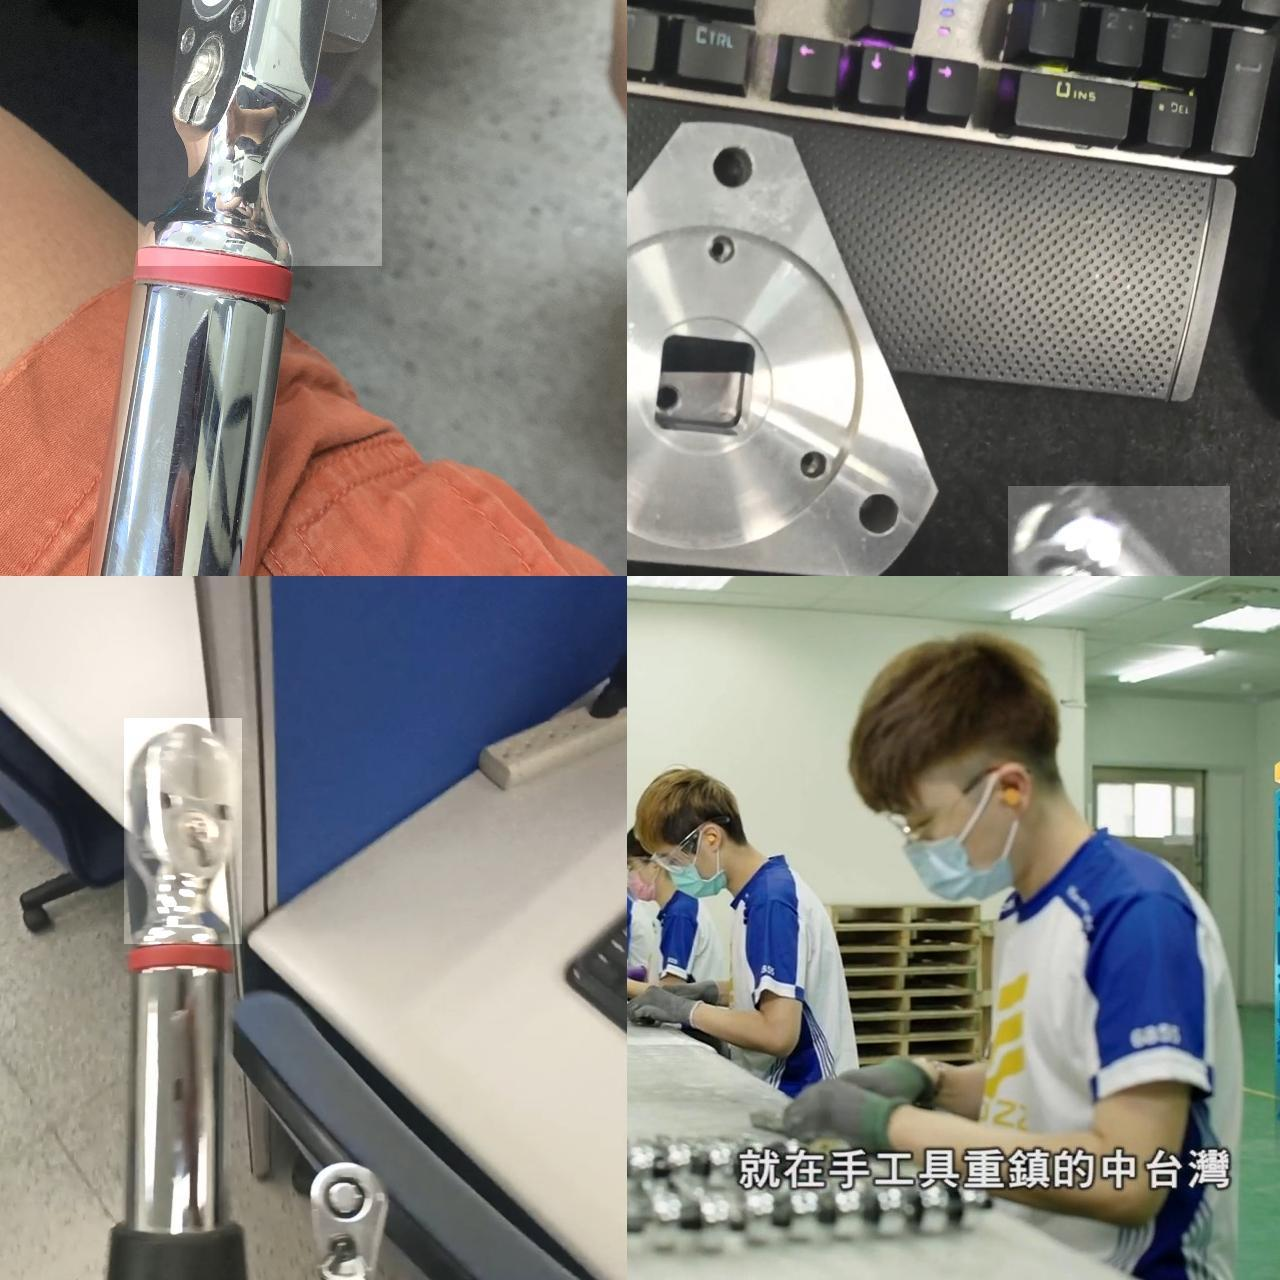Tool: (138, 0, 382, 266), (124, 719, 241, 944), (1008, 486, 1230, 576), (306, 1162, 392, 1280)
